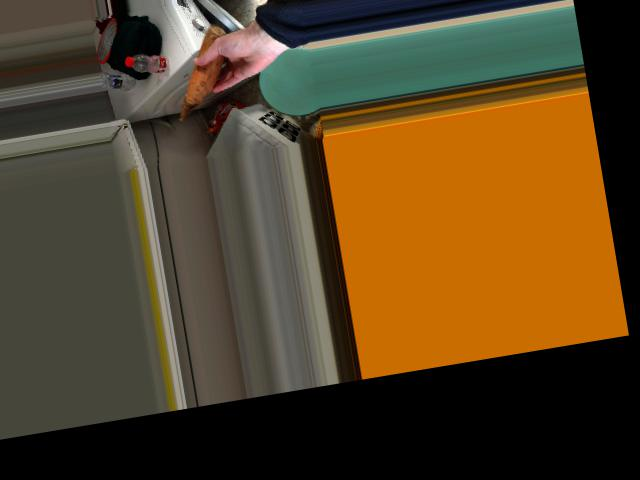sweet_potato: (175, 44, 229, 99)
